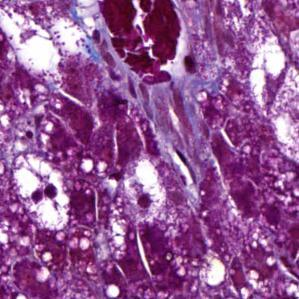ballooning: (3, 6, 89, 84), (9, 149, 73, 233), (119, 152, 167, 229)
